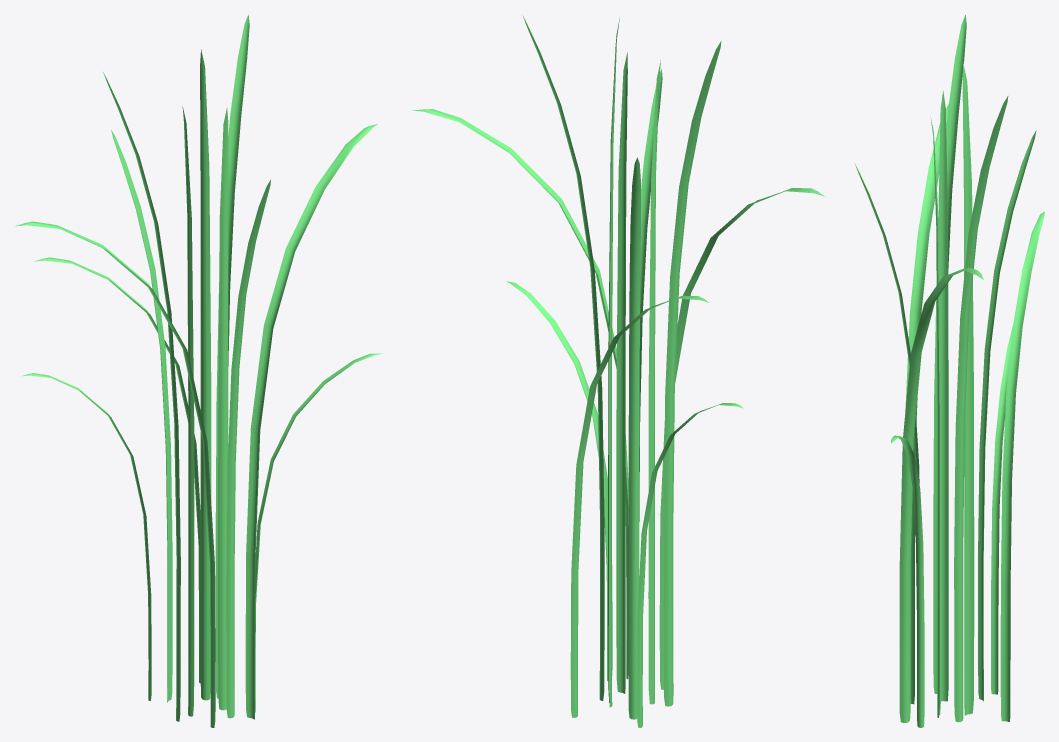
The model's file is TallGrass.glb.
The picture shows the model from 3 angles, left to right: view 1: azimuth 30°, elevation 25°; view 2: azimuth 150°, elevation 25°; view 3: azimuth 270°, elevation 25°; orthographic projection. The views are drawn at different scales.
Visible parts, largest first — view 1: TallGrass; view 2: TallGrass; view 3: TallGrass.
Part boxes in pixels (x1,y1,x2,y2): TallGrass: (15,14,382,727); TallGrass: (412,15,824,727); TallGrass: (855,15,1044,727).
Size of the model in its own units: 1.93 by 3.19 by 0.8436.
